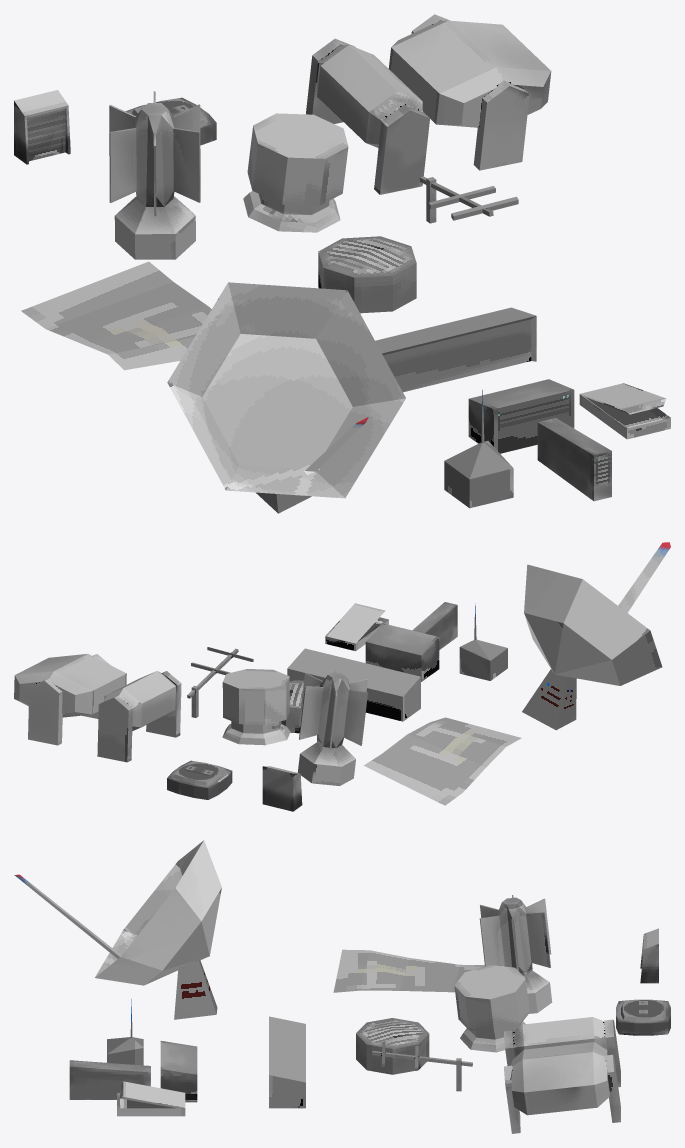
File: spaceShipObjets.glb
3 renders of one model, top to bottom at view 1: azimuth 30°, elevation 25°; view 2: azimuth 150°, elevation 25°; view 3: azimuth 270°, elevation 25°, orthographic. The views are drawn at different scales.
Visible parts, largest first — view 1: Cube.009, Circle.007, Circle.005, Plane, Circle.006, Circle.004, Cube.004, Circle.001, Cube.005, Cube.006, Cube.007, Cube (+3 smaller); view 2: Cube.009, Plane, Circle.007, Circle.005, Circle.006, Circle.004, Cube.004, Cube.005, Plane.001, Cube.008, Cube.007, Cube (+3 smaller); view 3: Cube.009, Circle.007, Circle.005, Circle.004, Plane, Cube.004, Circle.001, Circle.006, Cube.006, Cube.008, Cube.005, Plane.001 (+3 smaller).
Part boxes in pixels (x1,y1,x2,y2): Cube.009: (167, 282, 405, 513); Circle.007: (388, 14, 551, 170); Circle.005: (109, 91, 200, 259); Plane: (21, 261, 211, 370); Circle.006: (306, 38, 429, 194); Circle.004: (243, 113, 348, 232); Cube.004: (375, 307, 536, 392); Circle.001: (318, 236, 416, 313); Cube.005: (468, 379, 574, 453); Cube.006: (537, 418, 611, 501); Cube.007: (444, 389, 513, 508); Cube: (14, 90, 70, 164); Cube.009: (522, 542, 670, 730); Plane: (363, 717, 521, 805); Circle.007: (14, 654, 126, 745); Circle.005: (297, 669, 367, 785); Circle.006: (97, 671, 181, 762); Circle.004: (222, 669, 290, 745); Cube.004: (287, 648, 420, 721); Cube.005: (365, 623, 439, 681); Plane.001: (167, 760, 232, 799); Cube.008: (325, 603, 388, 651); Cube.007: (459, 603, 507, 680); Cube: (262, 766, 302, 811); Cube.009: (14, 840, 221, 1019); Circle.007: (504, 1042, 620, 1133); Circle.005: (479, 895, 552, 1013); Circle.004: (454, 965, 529, 1052); Plane: (333, 949, 484, 992); Cube.004: (269, 1016, 305, 1108); Circle.001: (356, 1018, 429, 1074); Circle.006: (504, 1017, 620, 1087); Cube.006: (69, 1060, 150, 1099); Cube.008: (117, 1081, 185, 1116); Cube.005: (160, 1041, 197, 1102); Plane.001: (616, 999, 670, 1035).
Bounding box in the file's own units: 28.38 × 9.73 × 35.81.
Materials: 1 (1 with a texture image).
